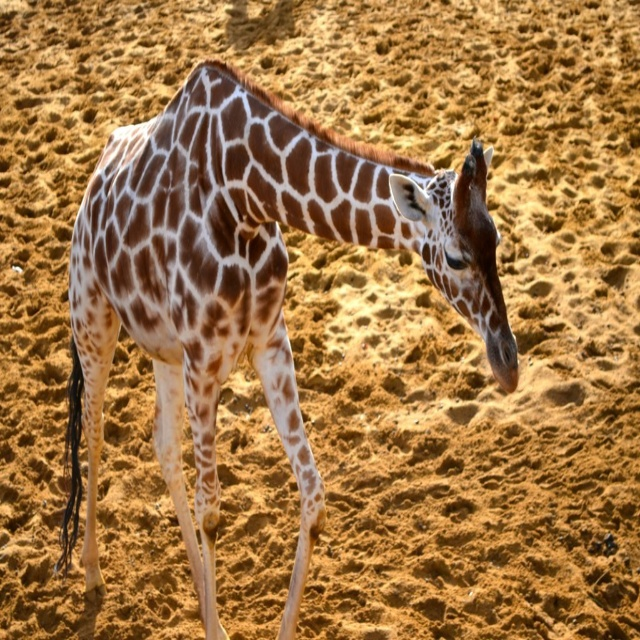Giraffe: (66, 58, 516, 640)
